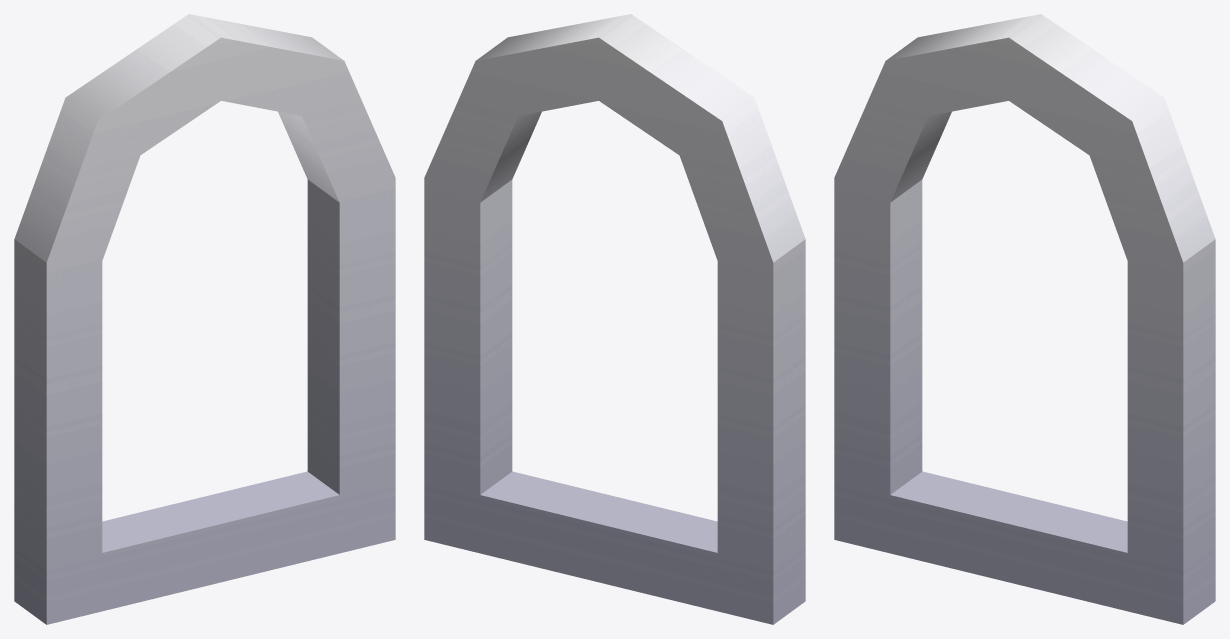
3 views of the same model, side by side, from view 1: azimuth 30°, elevation 25°; view 2: azimuth 150°, elevation 25°; view 3: azimuth 330°, elevation 25° (orthographic).
Parts seen in each view (by area): view 1: window-white-round-wide; view 2: window-white-round-wide; view 3: window-white-round-wide.
Part boxes in pixels (x1=…): window-white-round-wide: x1=14, y1=14, x2=395, y2=624; window-white-round-wide: x1=424, y1=14, x2=805, y2=624; window-white-round-wide: x1=834, y1=14, x2=1215, y2=624.
Size of the model in its own units: 0.3125 by 0.4662 by 0.05.
Materials: 1 (1 with a texture image).
